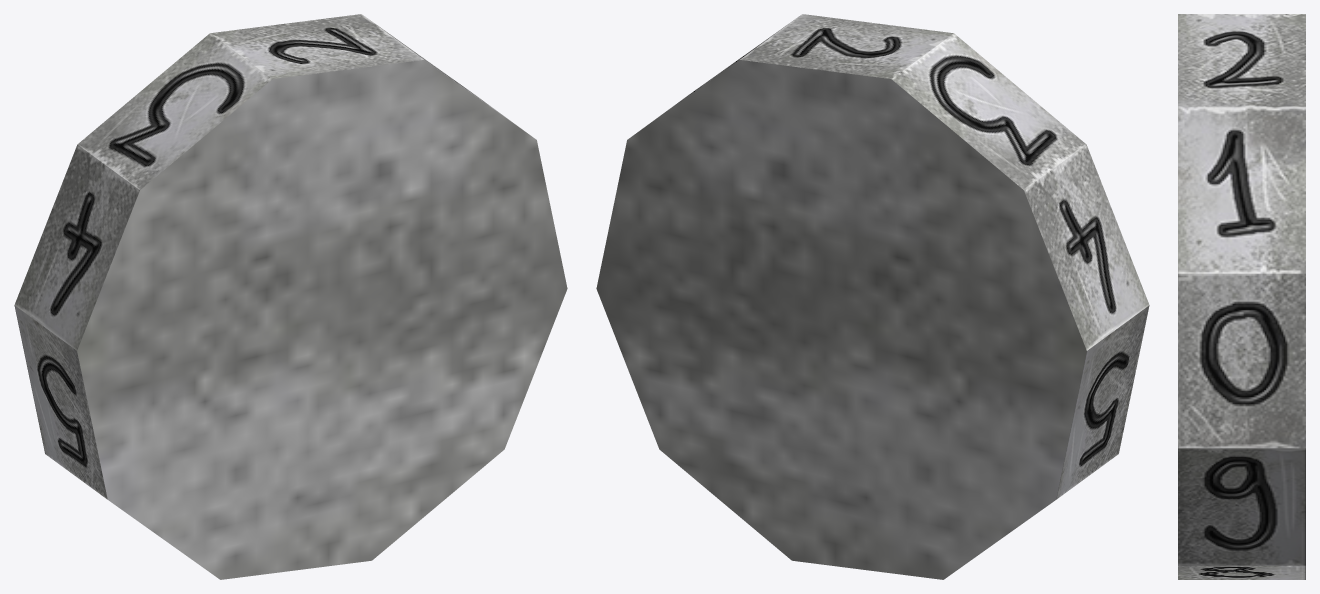
Rendered from code.fbx.
The picture shows the model from 3 angles, left to right: view 1: azimuth 30°, elevation 25°; view 2: azimuth 150°, elevation 25°; view 3: azimuth 270°, elevation 25°; orthographic projection. The views are drawn at different scales.
Visible parts, largest first — view 1: code; view 2: code; view 3: code.
Part boxes in pixels (x1,y1,x2,y2): code: (14, 14, 567, 579); code: (596, 14, 1149, 579); code: (1178, 14, 1305, 579).
Bounding box in the file's own units: 8.72 × 8.6 × 1.93.
